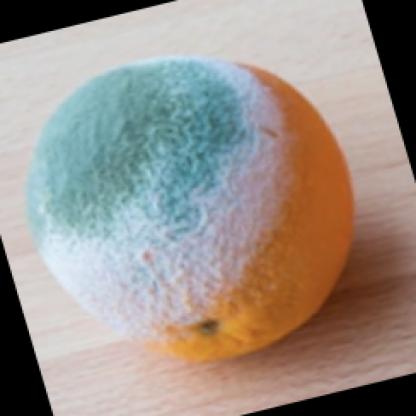rotten: (27, 63, 356, 366)
